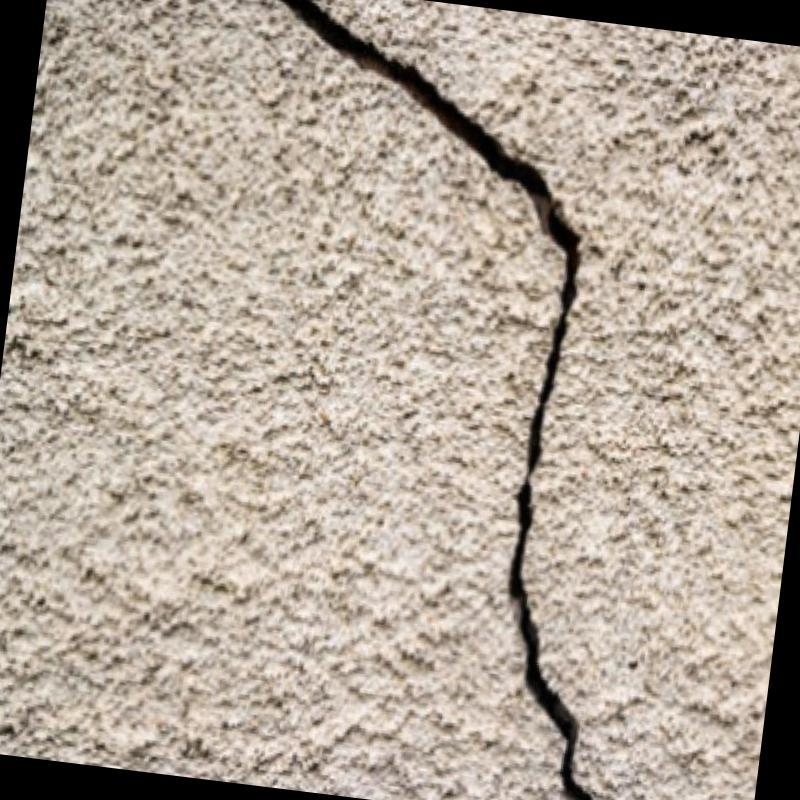pothole: (281, 0, 599, 800)
